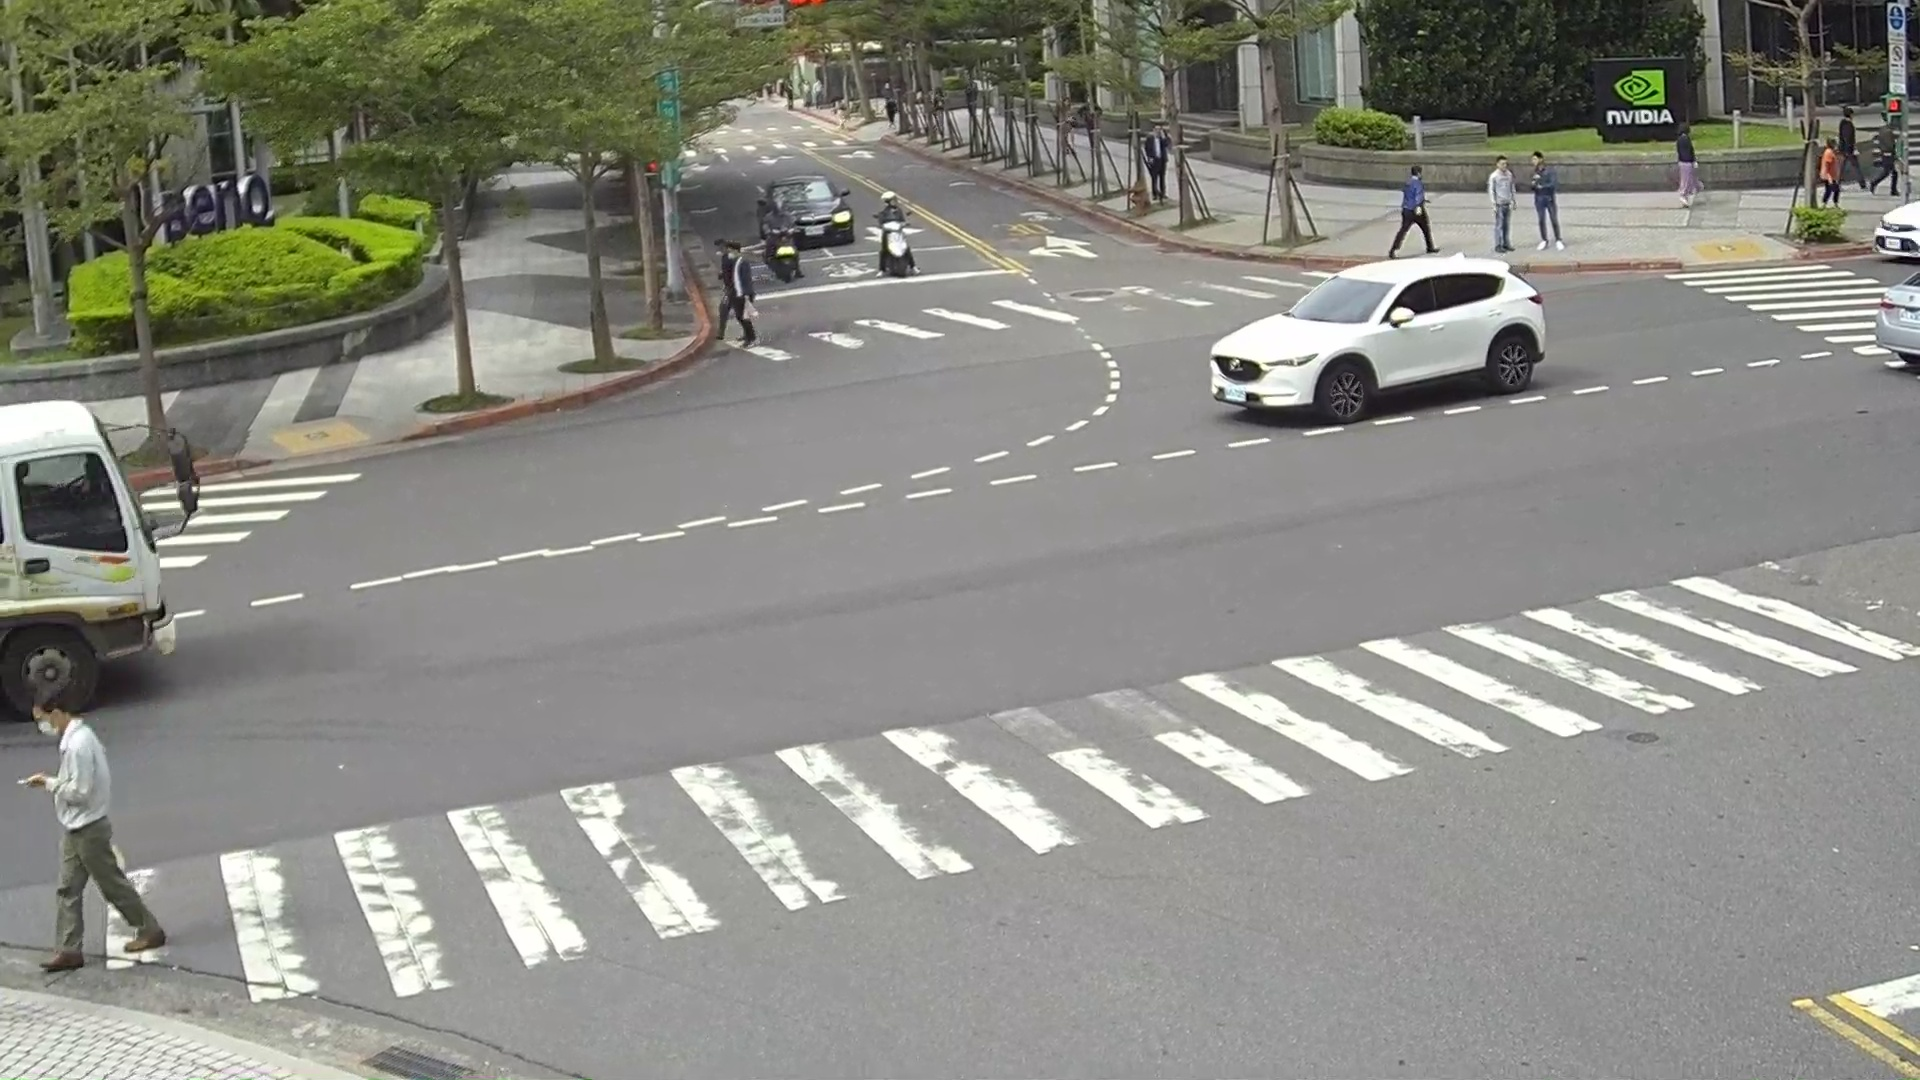bike: (761, 224, 818, 280), (874, 220, 918, 277)
pedestrian: (9, 675, 170, 978), (716, 241, 761, 342), (1389, 165, 1436, 257), (1525, 150, 1566, 252), (1487, 154, 1515, 252), (1863, 133, 1904, 195), (1673, 120, 1702, 207), (1837, 106, 1860, 190), (871, 195, 909, 239), (1818, 140, 1841, 207), (763, 197, 793, 247)
vehicle: (1206, 250, 1547, 422), (1, 397, 176, 719), (757, 174, 852, 252), (1875, 257, 1920, 378), (1872, 193, 1920, 266)
